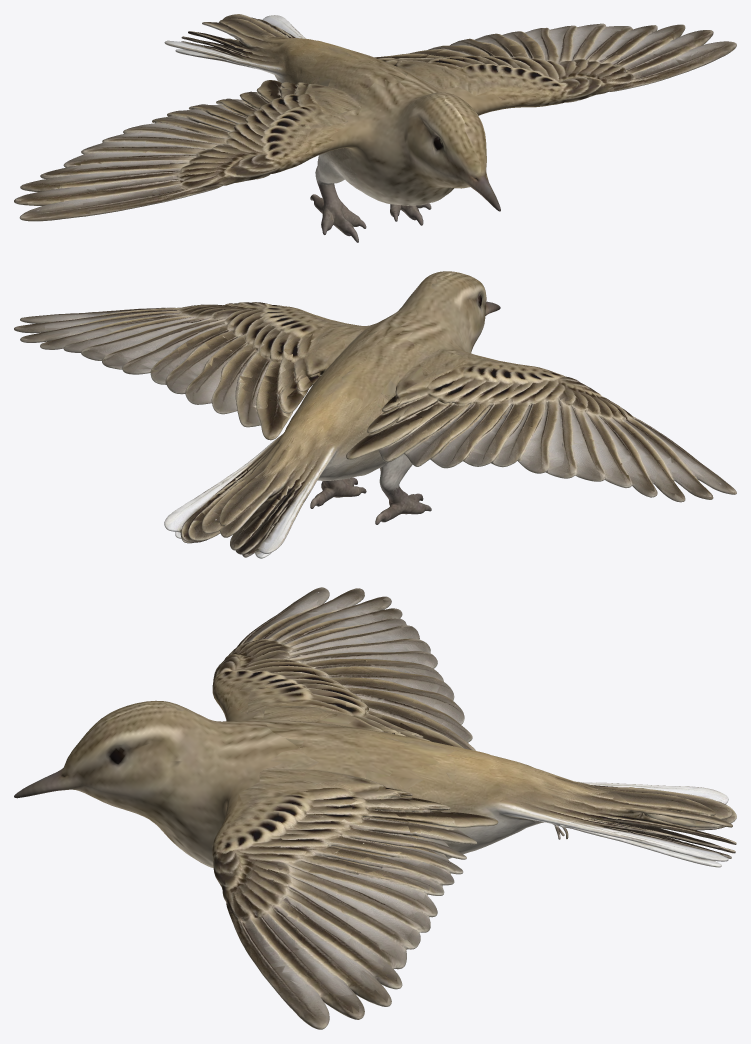
File: Anthus_campestris.glb
3 views of the same model, one above another, from view 1: azimuth 30°, elevation 25°; view 2: azimuth 150°, elevation 25°; view 3: azimuth 270°, elevation 25° (orthographic). The views are drawn at different scales.
Visible parts, largest first — view 1: orient; view 2: orient; view 3: orient.
Part boxes in pixels (x1,y1,x2,y2): orient: (14, 14, 736, 242); orient: (14, 271, 736, 558); orient: (14, 587, 736, 1029).
Bounding box in the file's own units: 0.5001 × 0.1182 × 0.347.
Materials: 1 (1 with a texture image).
